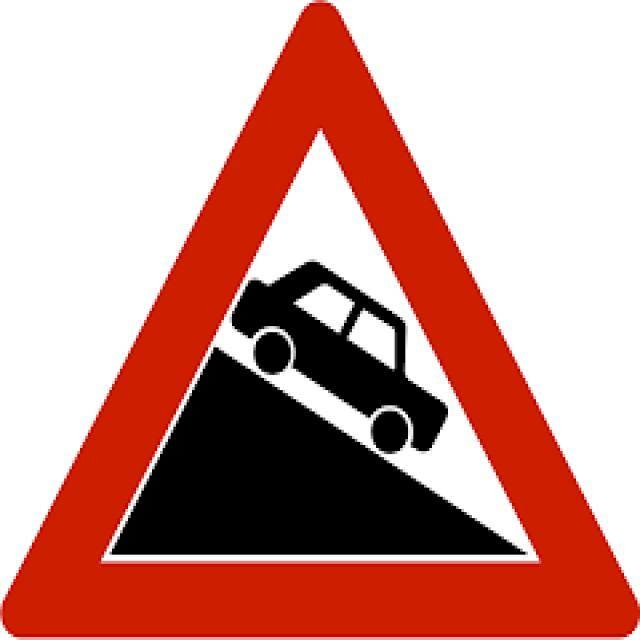steep descent: (28, 16, 612, 620)
